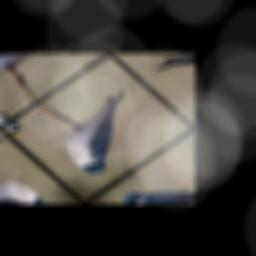Swallow: (46, 87, 168, 180)
